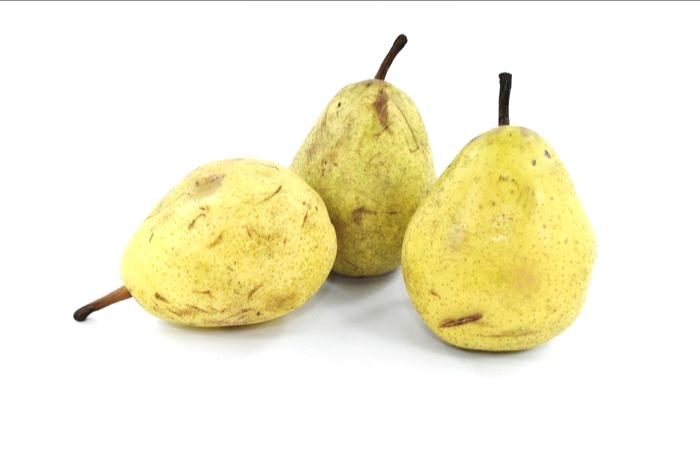Pear Overripe: (340, 74, 430, 267)
Pear Ripe: (406, 128, 617, 368)
